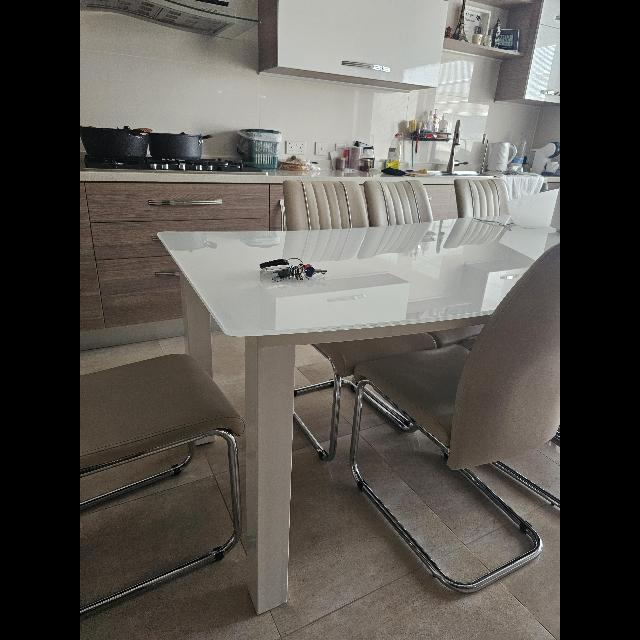Keys: (260, 257, 322, 281)
